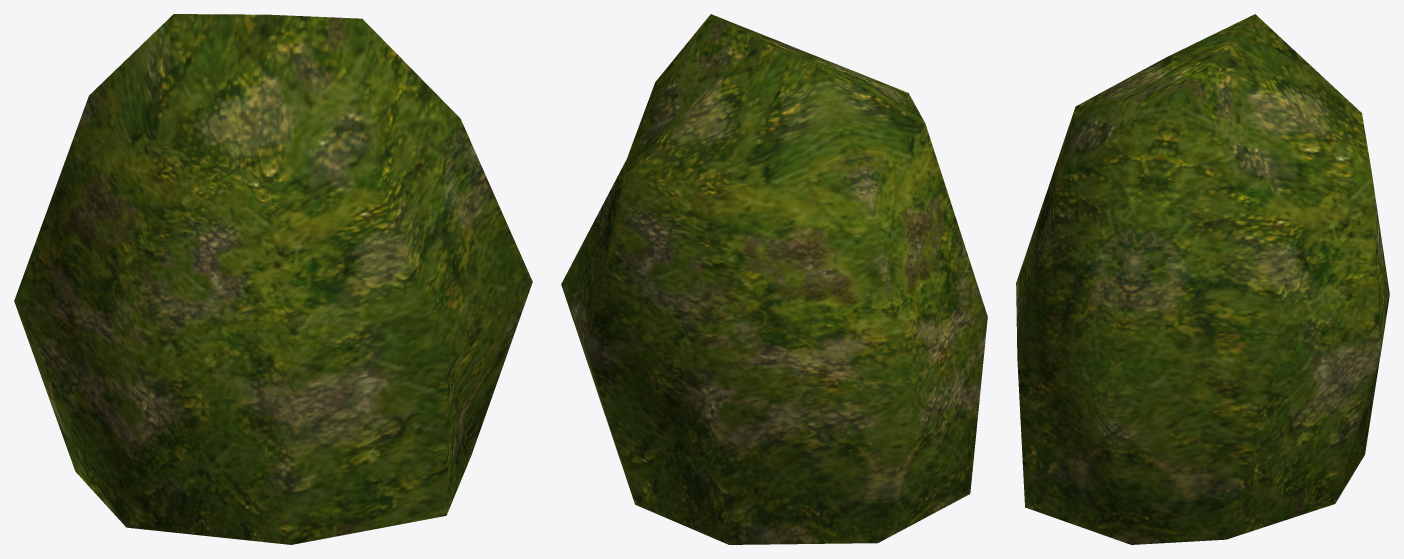
File: OVERHILL_A_01_BR_ROCK103.fbx
The picture shows the model from 3 angles, left to right: view 1: azimuth 30°, elevation 25°; view 2: azimuth 150°, elevation 25°; view 3: azimuth 270°, elevation 25°; orthographic projection. The views are drawn at different scales.
Parts seen in each view (by area): view 1: OVERHILL_A_01_BR_ROCK103; view 2: OVERHILL_A_01_BR_ROCK103; view 3: OVERHILL_A_01_BR_ROCK103.
Boxes of the visible parts, x1,y1,x2,y2 form: OVERHILL_A_01_BR_ROCK103: (14,14,532,544); OVERHILL_A_01_BR_ROCK103: (561,14,987,544); OVERHILL_A_01_BR_ROCK103: (1016,14,1389,544).
Size of the model in its own units: 12350 by 13041 by 10367.
Materials: 1 (1 with a texture image).
